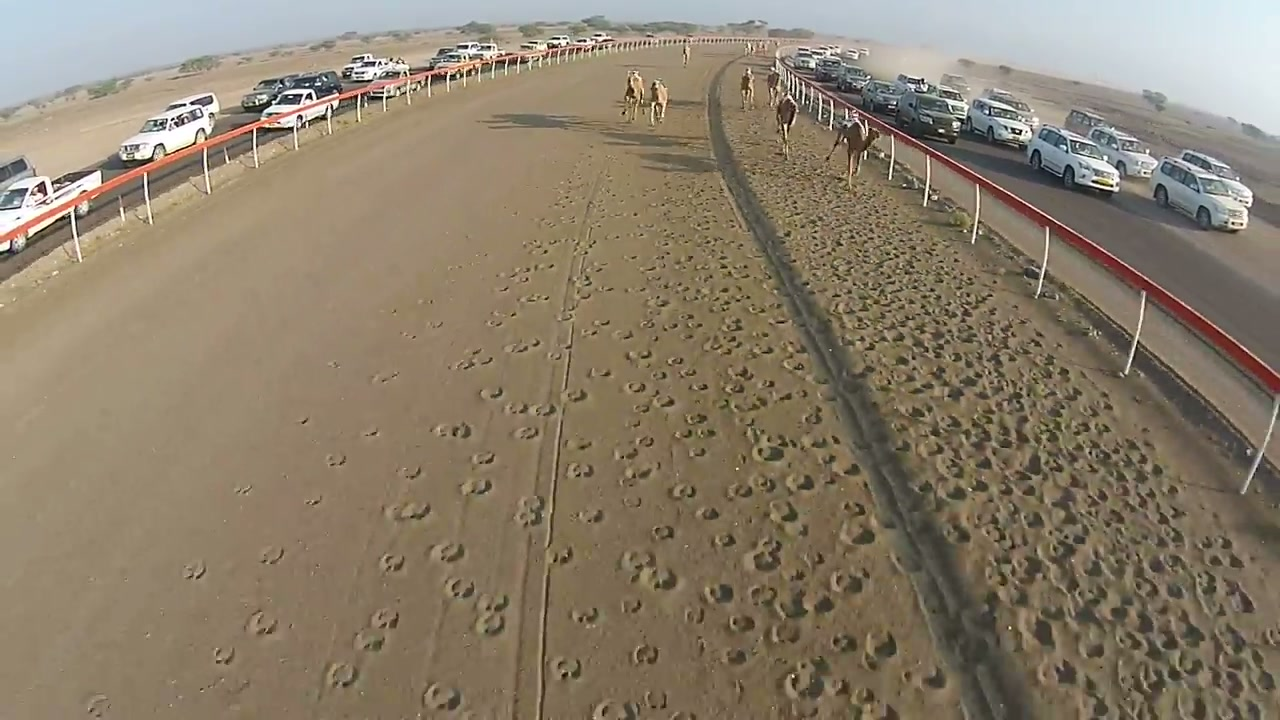animal_footprint: (161, 102, 927, 719), (287, 146, 960, 719), (721, 112, 1274, 716), (545, 183, 941, 716), (384, 500, 431, 522), (590, 698, 638, 719), (514, 496, 545, 527), (324, 662, 358, 688), (245, 610, 279, 636), (353, 629, 386, 651), (429, 543, 465, 563), (550, 657, 581, 680), (474, 612, 505, 635), (444, 577, 475, 600), (84, 694, 111, 719), (370, 607, 399, 630), (570, 607, 601, 628), (434, 422, 472, 439), (460, 477, 492, 496), (477, 593, 509, 612), (378, 553, 406, 574), (631, 644, 659, 664), (259, 546, 285, 565), (183, 560, 206, 580), (212, 646, 235, 666), (370, 370, 399, 384), (397, 465, 422, 481), (471, 451, 496, 466), (512, 426, 540, 439), (303, 492, 324, 508), (479, 386, 503, 400), (325, 452, 346, 467), (361, 425, 382, 440), (234, 483, 252, 496)
